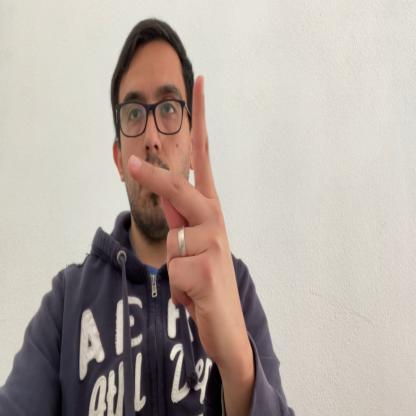P: (129, 74, 238, 362)
